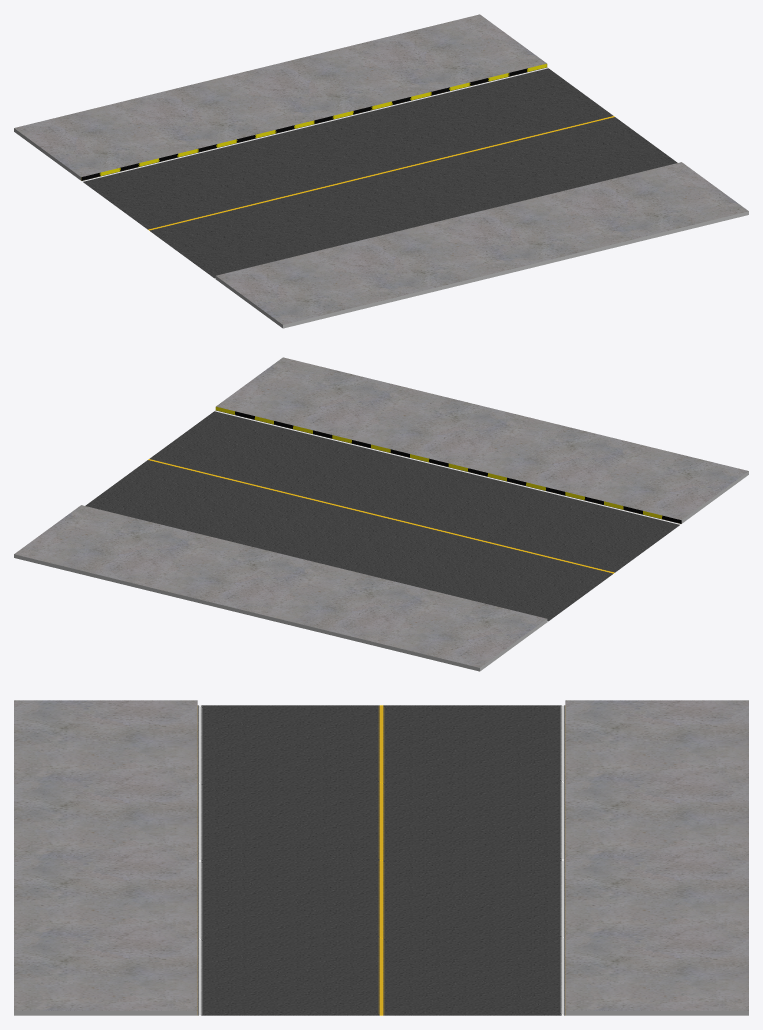
The model's file is street_2.glb.
The picture shows the model from 3 angles, top to bottom: view 1: azimuth 30°, elevation 25°; view 2: azimuth 150°, elevation 25°; view 3: azimuth 270°, elevation 25°; orthographic projection. The views are drawn at different scales.
Parts seen in each view (by area): view 1: 2Lanes; view 2: 2Lanes; view 3: 2Lanes.
Part boxes in pixels (x1,y1,x2,y2): 2Lanes: [14, 14, 748, 328]; 2Lanes: [14, 357, 748, 671]; 2Lanes: [14, 700, 748, 1015].
Bounding box in the file's own units: 12 × 0.09 × 12.
10 materials, 9 textured.
